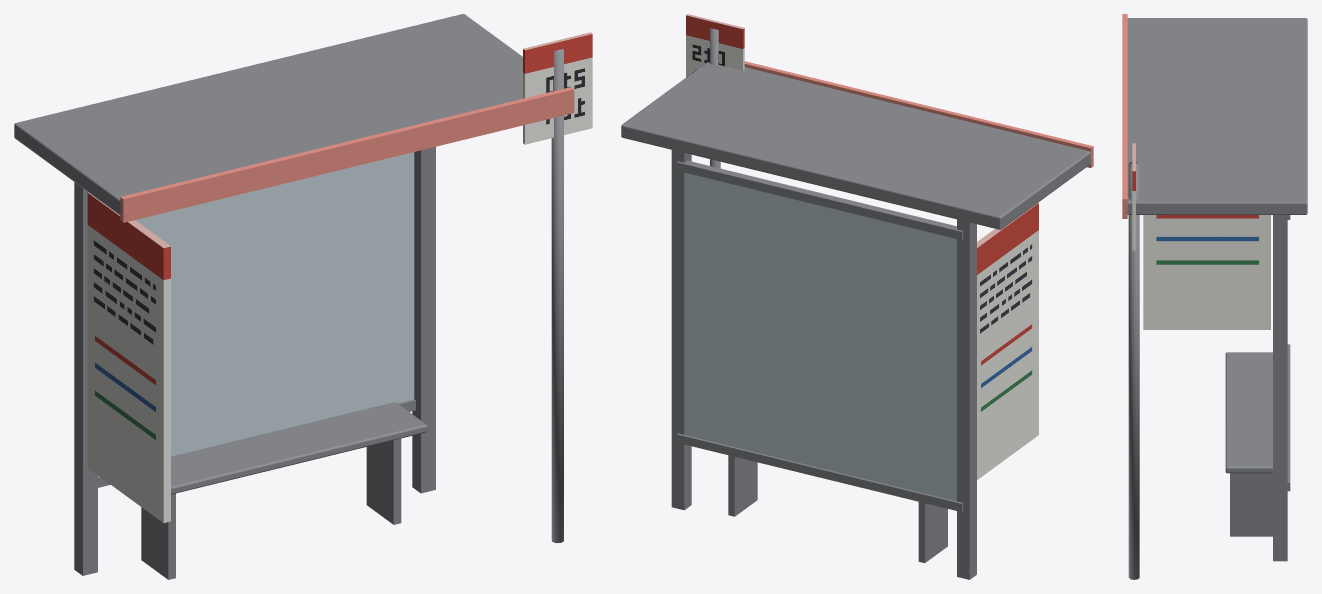
The model's file is barrio.paradero.fbx.
3 renders of one model, left to right at view 1: azimuth 30°, elevation 25°; view 2: azimuth 150°, elevation 25°; view 3: azimuth 270°, elevation 25°, orthographic. The views are drawn at different scales.
Visible parts, largest first — view 1: Panel de vidrio, Techo del paradero, Mapa de recorridos, Borde del techo, Banca, Poste del paradero, Poste del paradero.001, Poste de la senal, Senal de parada, Pata banca, Pata banca.001; view 2: Panel de vidrio, Techo del paradero, Mapa de recorridos, Poste del paradero.001, Poste del paradero, Marco panel, Marco panel.001, Senal de parada, Borde del techo, Pata banca.001, Pata banca; view 3: Techo del paradero, Mapa de recorridos, Banca, Poste del paradero, Poste de la senal, Pata banca, Borde del techo, Marco panel.001, Senal de parada.
Part boxes in pixels (x1,y1,x2,y2): Panel de vidrio: (98, 152, 414, 476); Techo del paradero: (14, 14, 523, 214); Mapa de recorridos: (87, 192, 170, 523); Borde del techo: (120, 87, 574, 222); Banca: (171, 402, 427, 494); Poste del paradero: (412, 146, 435, 493); Poste del paradero.001: (74, 182, 97, 575); Poste de la senal: (551, 49, 563, 543); Senal de parada: (523, 32, 592, 144); Pata banca: (366, 438, 401, 524); Pata banca.001: (141, 493, 175, 579); Panel de vidrio: (684, 172, 956, 501); Techo del paradero: (621, 62, 1091, 229); Mapa de recorridos: (977, 202, 1038, 479); Poste del paradero.001: (957, 219, 976, 579); Poste del paradero: (671, 150, 691, 510); Marco panel: (676, 160, 963, 239); Marco panel.001: (676, 433, 963, 511); Senal de parada: (686, 14, 744, 77); Borde del techo: (744, 61, 1093, 167); Pata banca.001: (918, 502, 947, 562); Pata banca: (728, 455, 757, 516); Techo del paradero: (1127, 18, 1307, 214); Mapa de recorridos: (1143, 215, 1270, 329); Banca: (1225, 352, 1272, 473); Poste del paradero: (1273, 215, 1287, 561); Poste de la senal: (1128, 162, 1139, 579); Pata banca: (1230, 473, 1272, 536); Borde del techo: (1122, 14, 1127, 218); Marco panel.001: (1287, 344, 1290, 491); Senal de parada: (1132, 143, 1135, 250).
Size of the model in its own units: 2.53 by 2.54 by 1.01.
5 materials, 2 textured.
